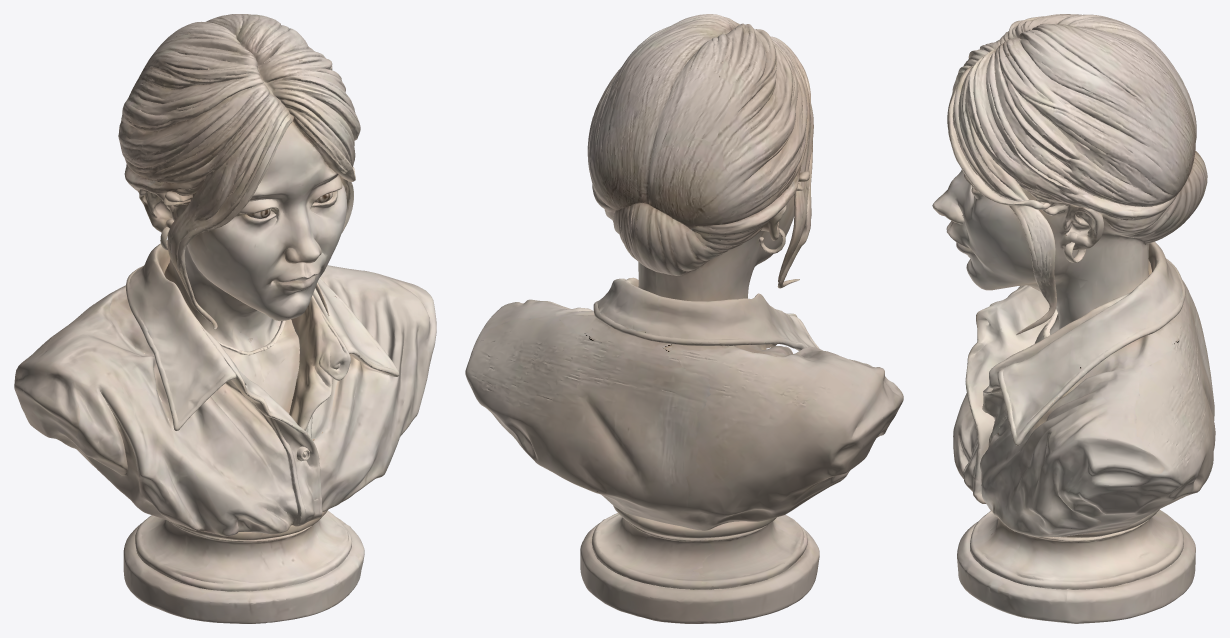
3 renders of one model, left to right at view 1: azimuth 30°, elevation 25°; view 2: azimuth 150°, elevation 25°; view 3: azimuth 270°, elevation 25°, orthographic.
Parts seen in each view (by area): view 1: model; view 2: model; view 3: model.
Boxes of the visible parts, x1,y1,x2,y2 form: model: [14, 14, 436, 623]; model: [465, 14, 903, 623]; model: [932, 14, 1215, 623].
Size of the model in its own units: 1.44 by 1.9 by 0.8853.
Materials: 1 (1 with a texture image).
